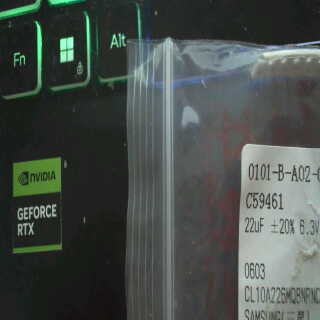22uF: (241, 215, 268, 236)
